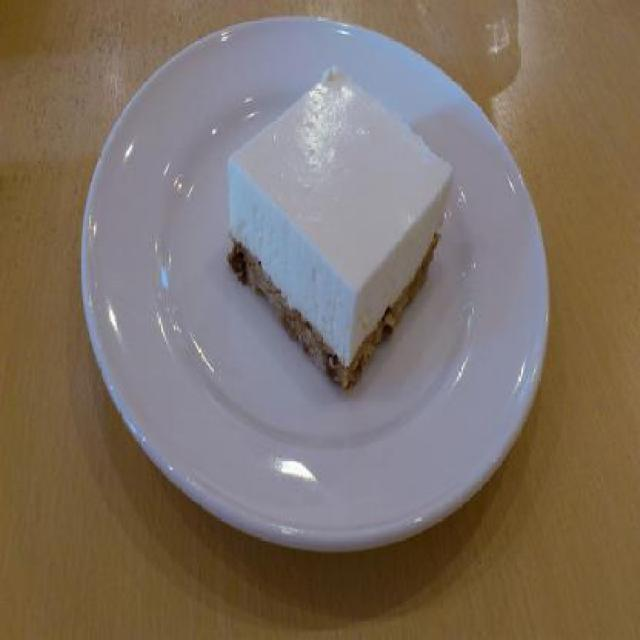Rare cheese cake: (200, 34, 474, 392)
